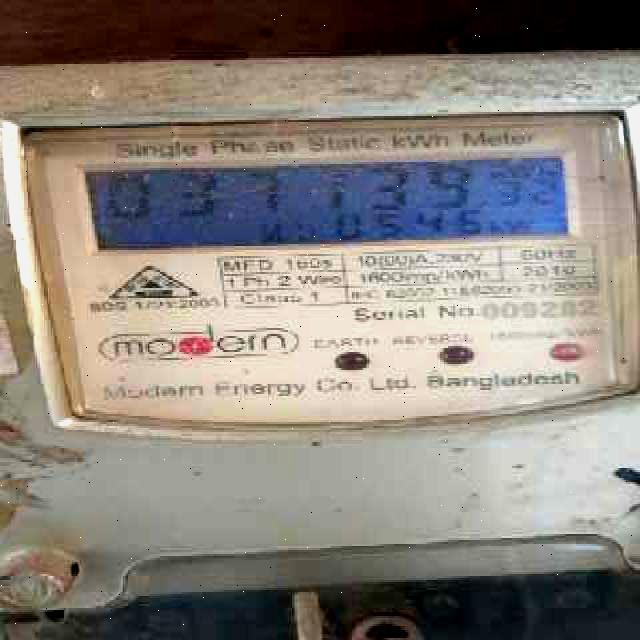LCD: (69, 151, 595, 254)
